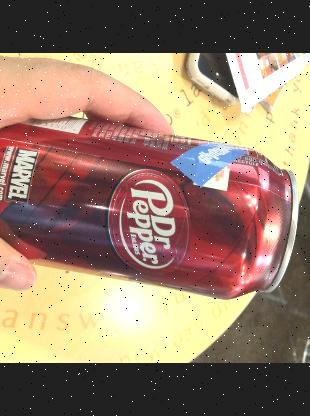Can: (0, 120, 302, 304)
